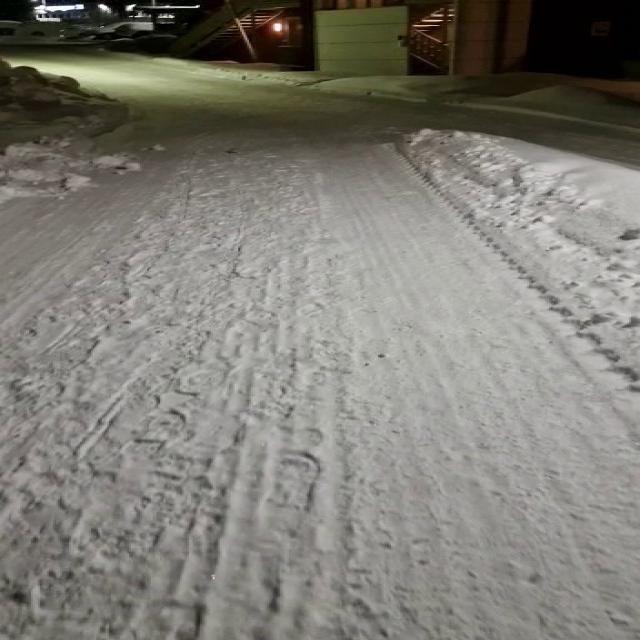path: (2, 48, 638, 640)
